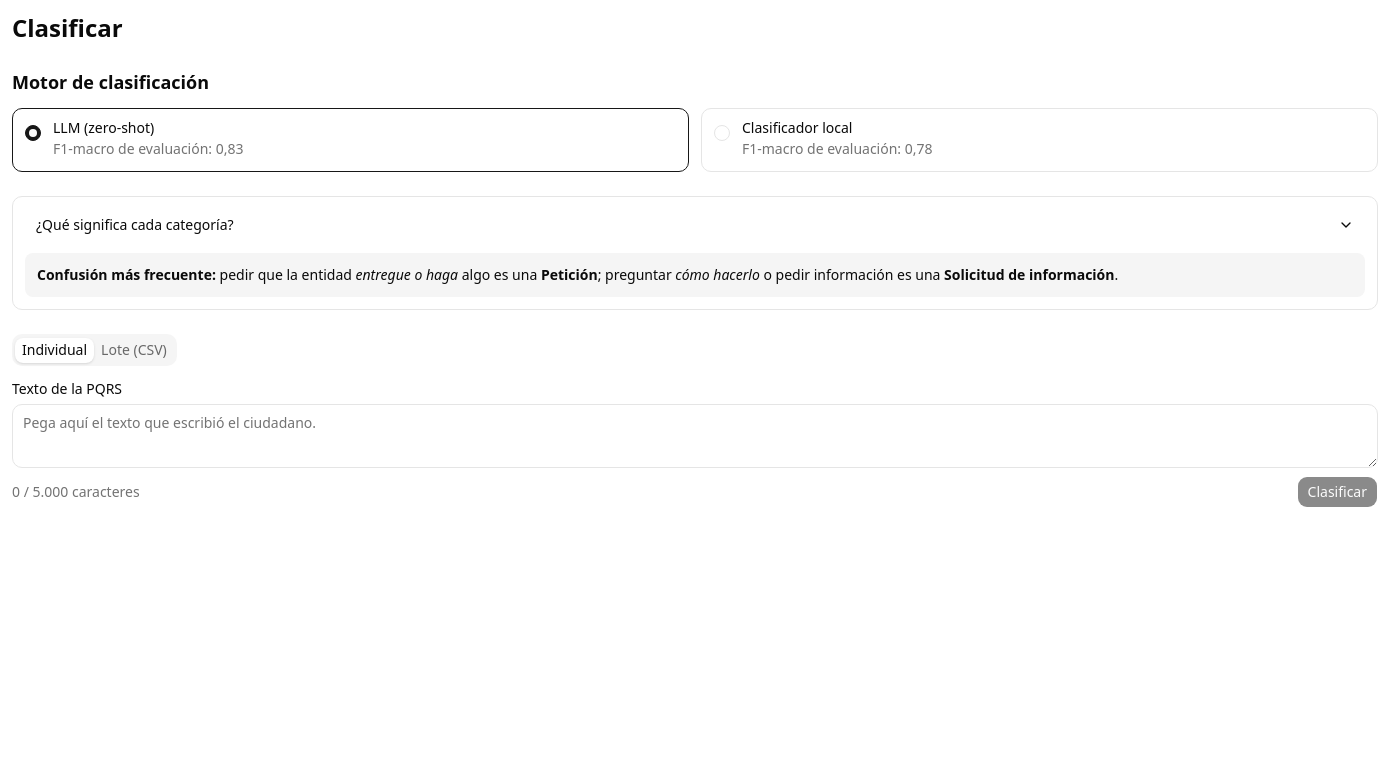
Test case: selector de motor › tras un 503 no cambia de motor: consulta /models y deja decidir al usuario
Expected: the radio button named "LLM" next to "LLM (zero-shot)" is checked, [25,125,41,141]
Type "Necesito una copia de mi factura" into the text box labelled "Texto de la PQRS" at (695, 436), box [12,404,1378,468]
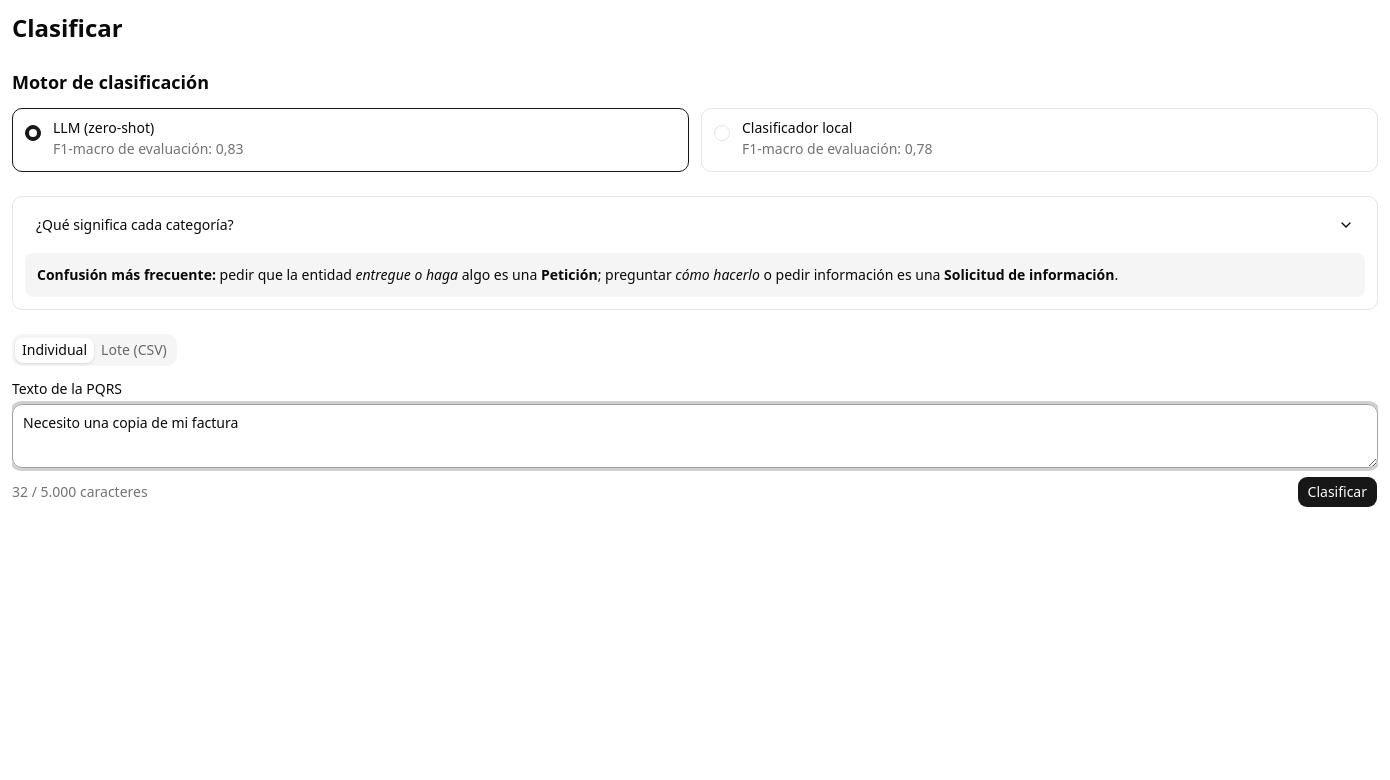
Click the button "Clasificar" at (1337, 492), box [1297,476,1378,508]
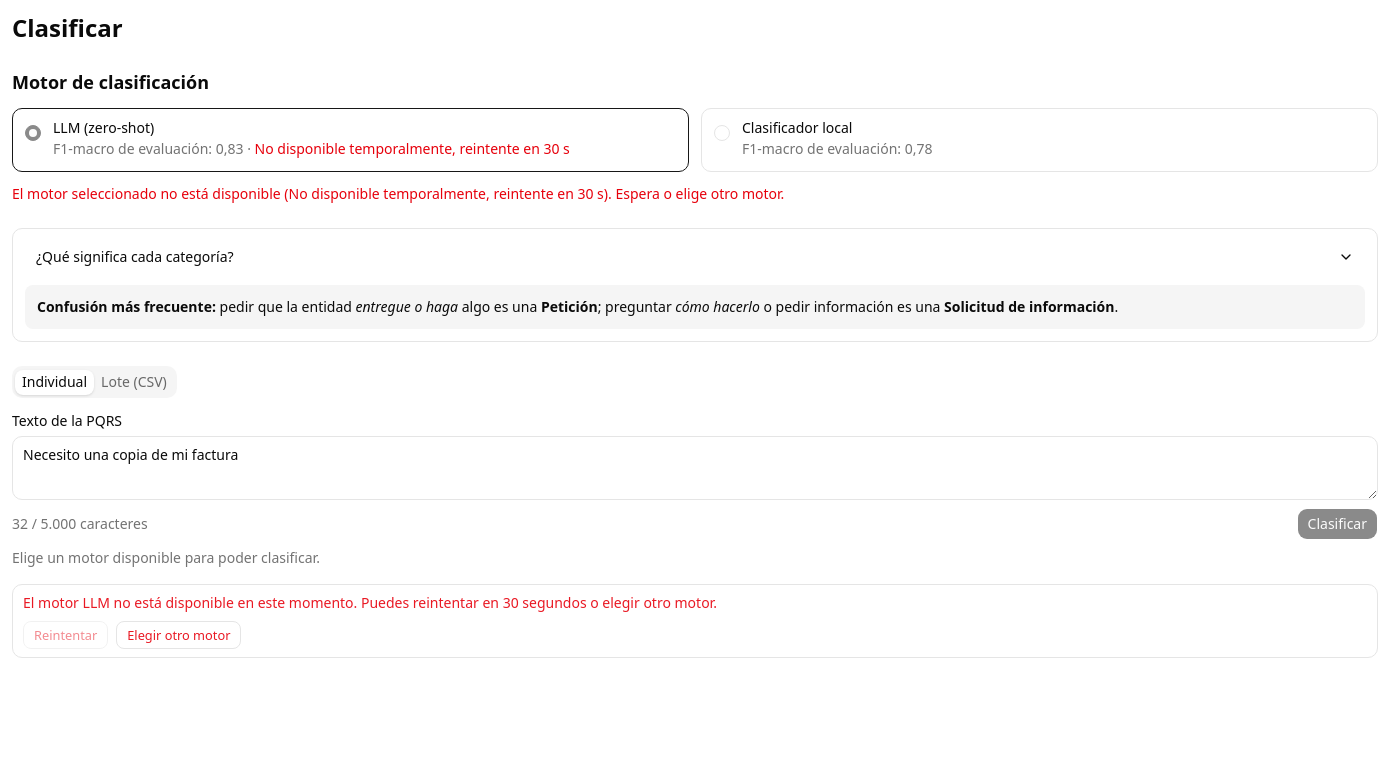
Now the 2nd message shows "El motor LLM no está disponible en este momento.", box [23,593,717,612]
Now the button "Reintentar" is shown, box [23,621,108,649]
Now the button "Elegir otro motor" is shown, box [116,621,241,649]
